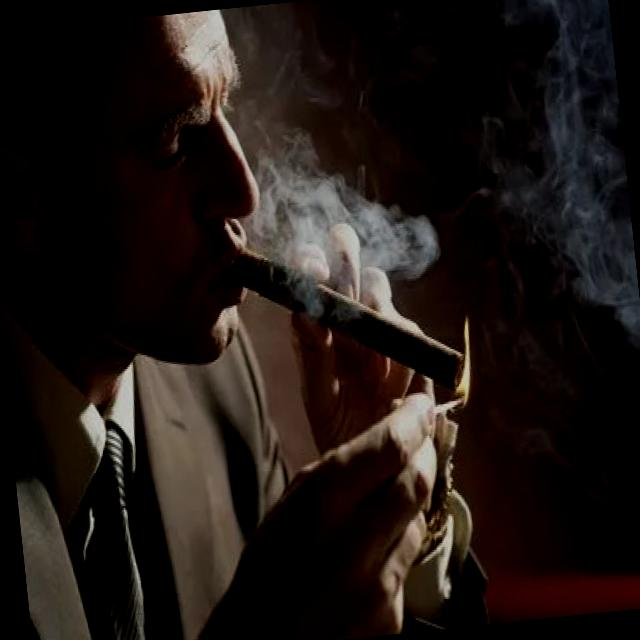cigarette: (227, 226, 472, 418)
